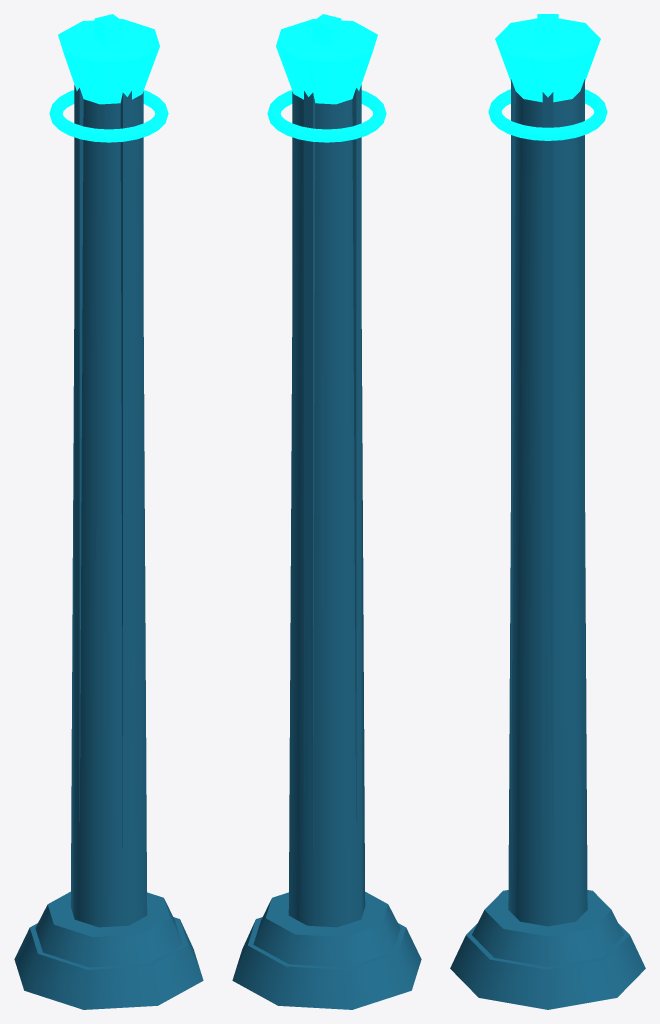
The model's file is support-column.high.glb.
3 views of the same model, side by side, from view 1: azimuth 30°, elevation 25°; view 2: azimuth 150°, elevation 25°; view 3: azimuth 270°, elevation 25° (orthographic).
Parts seen in each view (by area): view 1: support-column-body, support-column-emissive; view 2: support-column-body, support-column-emissive; view 3: support-column-body, support-column-emissive.
Boxes of the visible parts, left/top/right/bottom form: support-column-body: left=14, top=85, right=203, bottom=1009; support-column-emissive: left=49, top=14, right=168, bottom=142; support-column-body: left=232, top=85, right=421, bottom=1009; support-column-emissive: left=267, top=14, right=386, bottom=142; support-column-body: left=450, top=79, right=645, bottom=1009; support-column-emissive: left=488, top=14, right=607, bottom=140.
Bounding box in the file's own units: 1.48 × 7.92 × 1.48.
